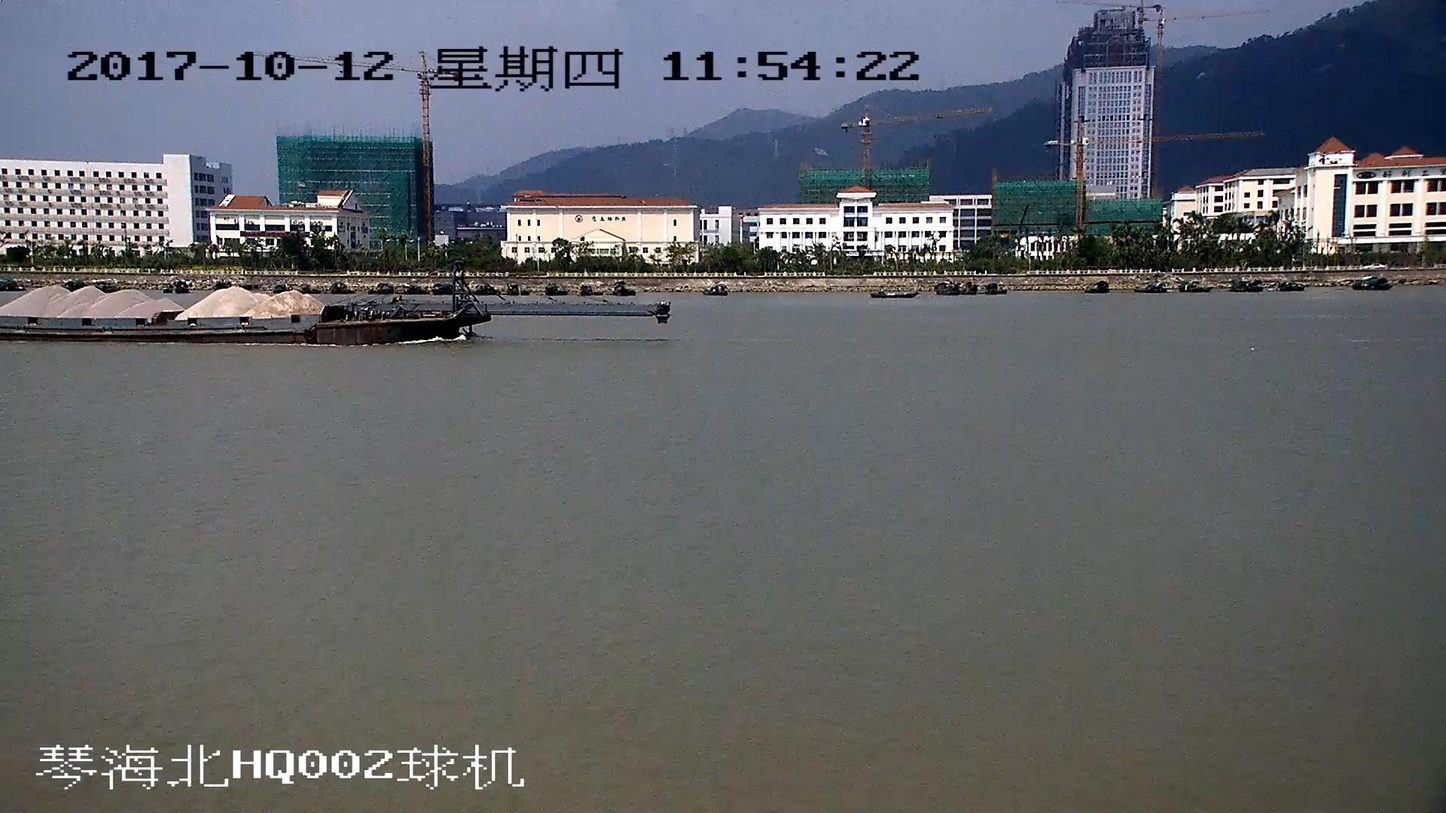ore carrier: (0, 258, 662, 346)
